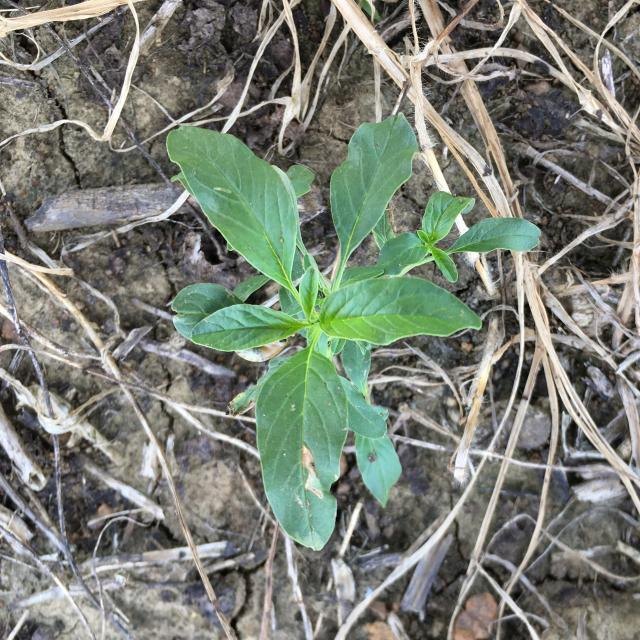Waterhemp: (166, 113, 541, 552)
